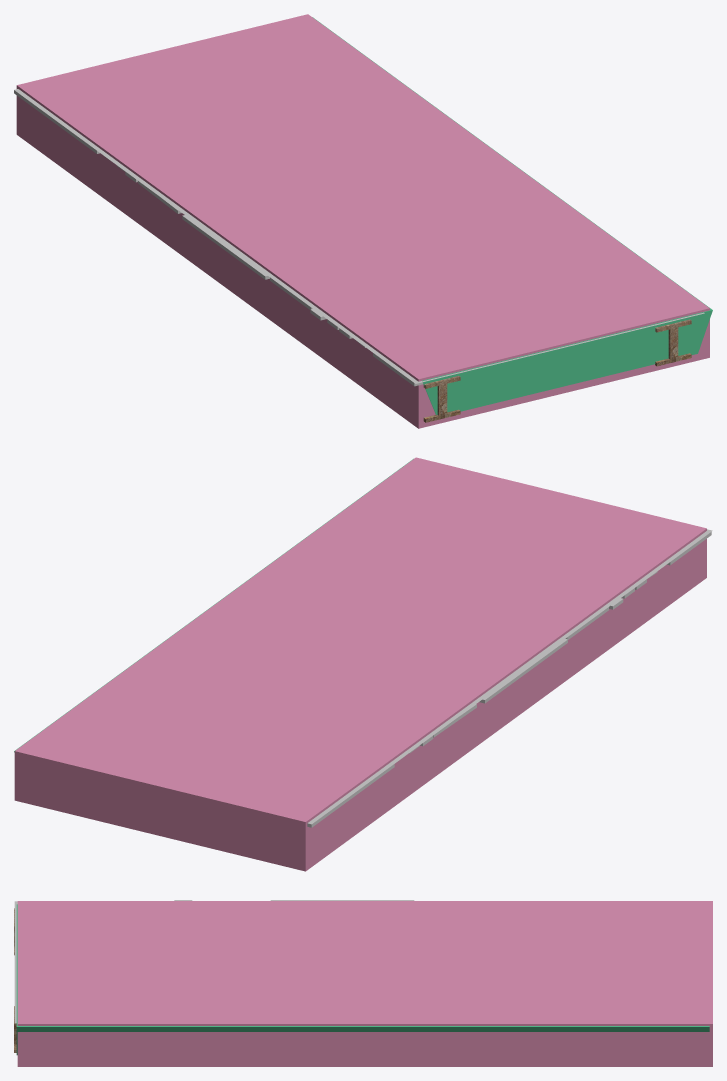
File: ind_obj_04_a.dae
3 renders of one model, top to bottom at view 1: azimuth 30°, elevation 25°; view 2: azimuth 150°, elevation 25°; view 3: azimuth 270°, elevation 25°, orthographic. The views are drawn at different scales.
Visible parts, largest first — view 1: Untitled, Colmesh-1, tree_oak_bush_a100, tree_oak_bush_a300, tree_oak_bush_a20; view 2: Untitled, tree_oak_bush_a100, tree_oak_bush_a300, tree_oak_bush_a20; view 3: Untitled, Colmesh-1, tree_oak_bush_a20.
Part boxes in pixels (bbox=[...]): Untitled: bbox=[16, 14, 709, 428]; Colmesh-1: bbox=[312, 17, 712, 414]; tree_oak_bush_a100: bbox=[14, 89, 691, 422]; tree_oak_bush_a300: bbox=[14, 90, 691, 413]; tree_oak_bush_a20: bbox=[16, 90, 704, 383]; Untitled: bbox=[14, 457, 706, 871]; tree_oak_bush_a100: bbox=[308, 530, 710, 824]; tree_oak_bush_a300: bbox=[307, 532, 711, 827]; tree_oak_bush_a20: bbox=[309, 529, 712, 823]; Untitled: bbox=[17, 901, 712, 1066]; Colmesh-1: bbox=[16, 904, 709, 1055]; tree_oak_bush_a20: bbox=[14, 901, 17, 1023].
Bounding box in the file's own units: 2.61 × 6.05 × 0.4095.
